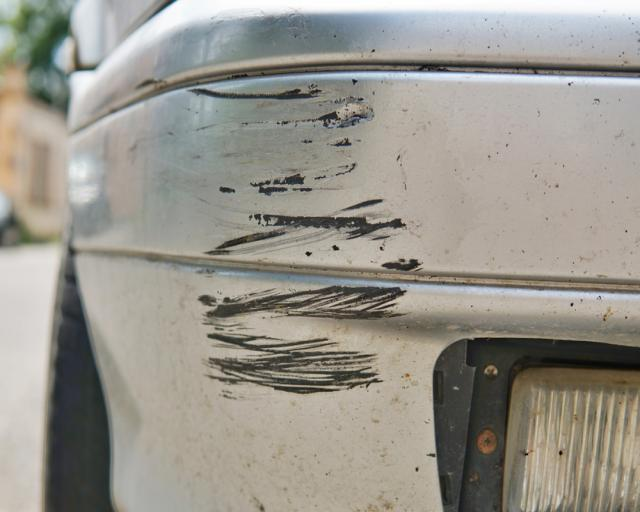scratch: (187, 74, 429, 408)
